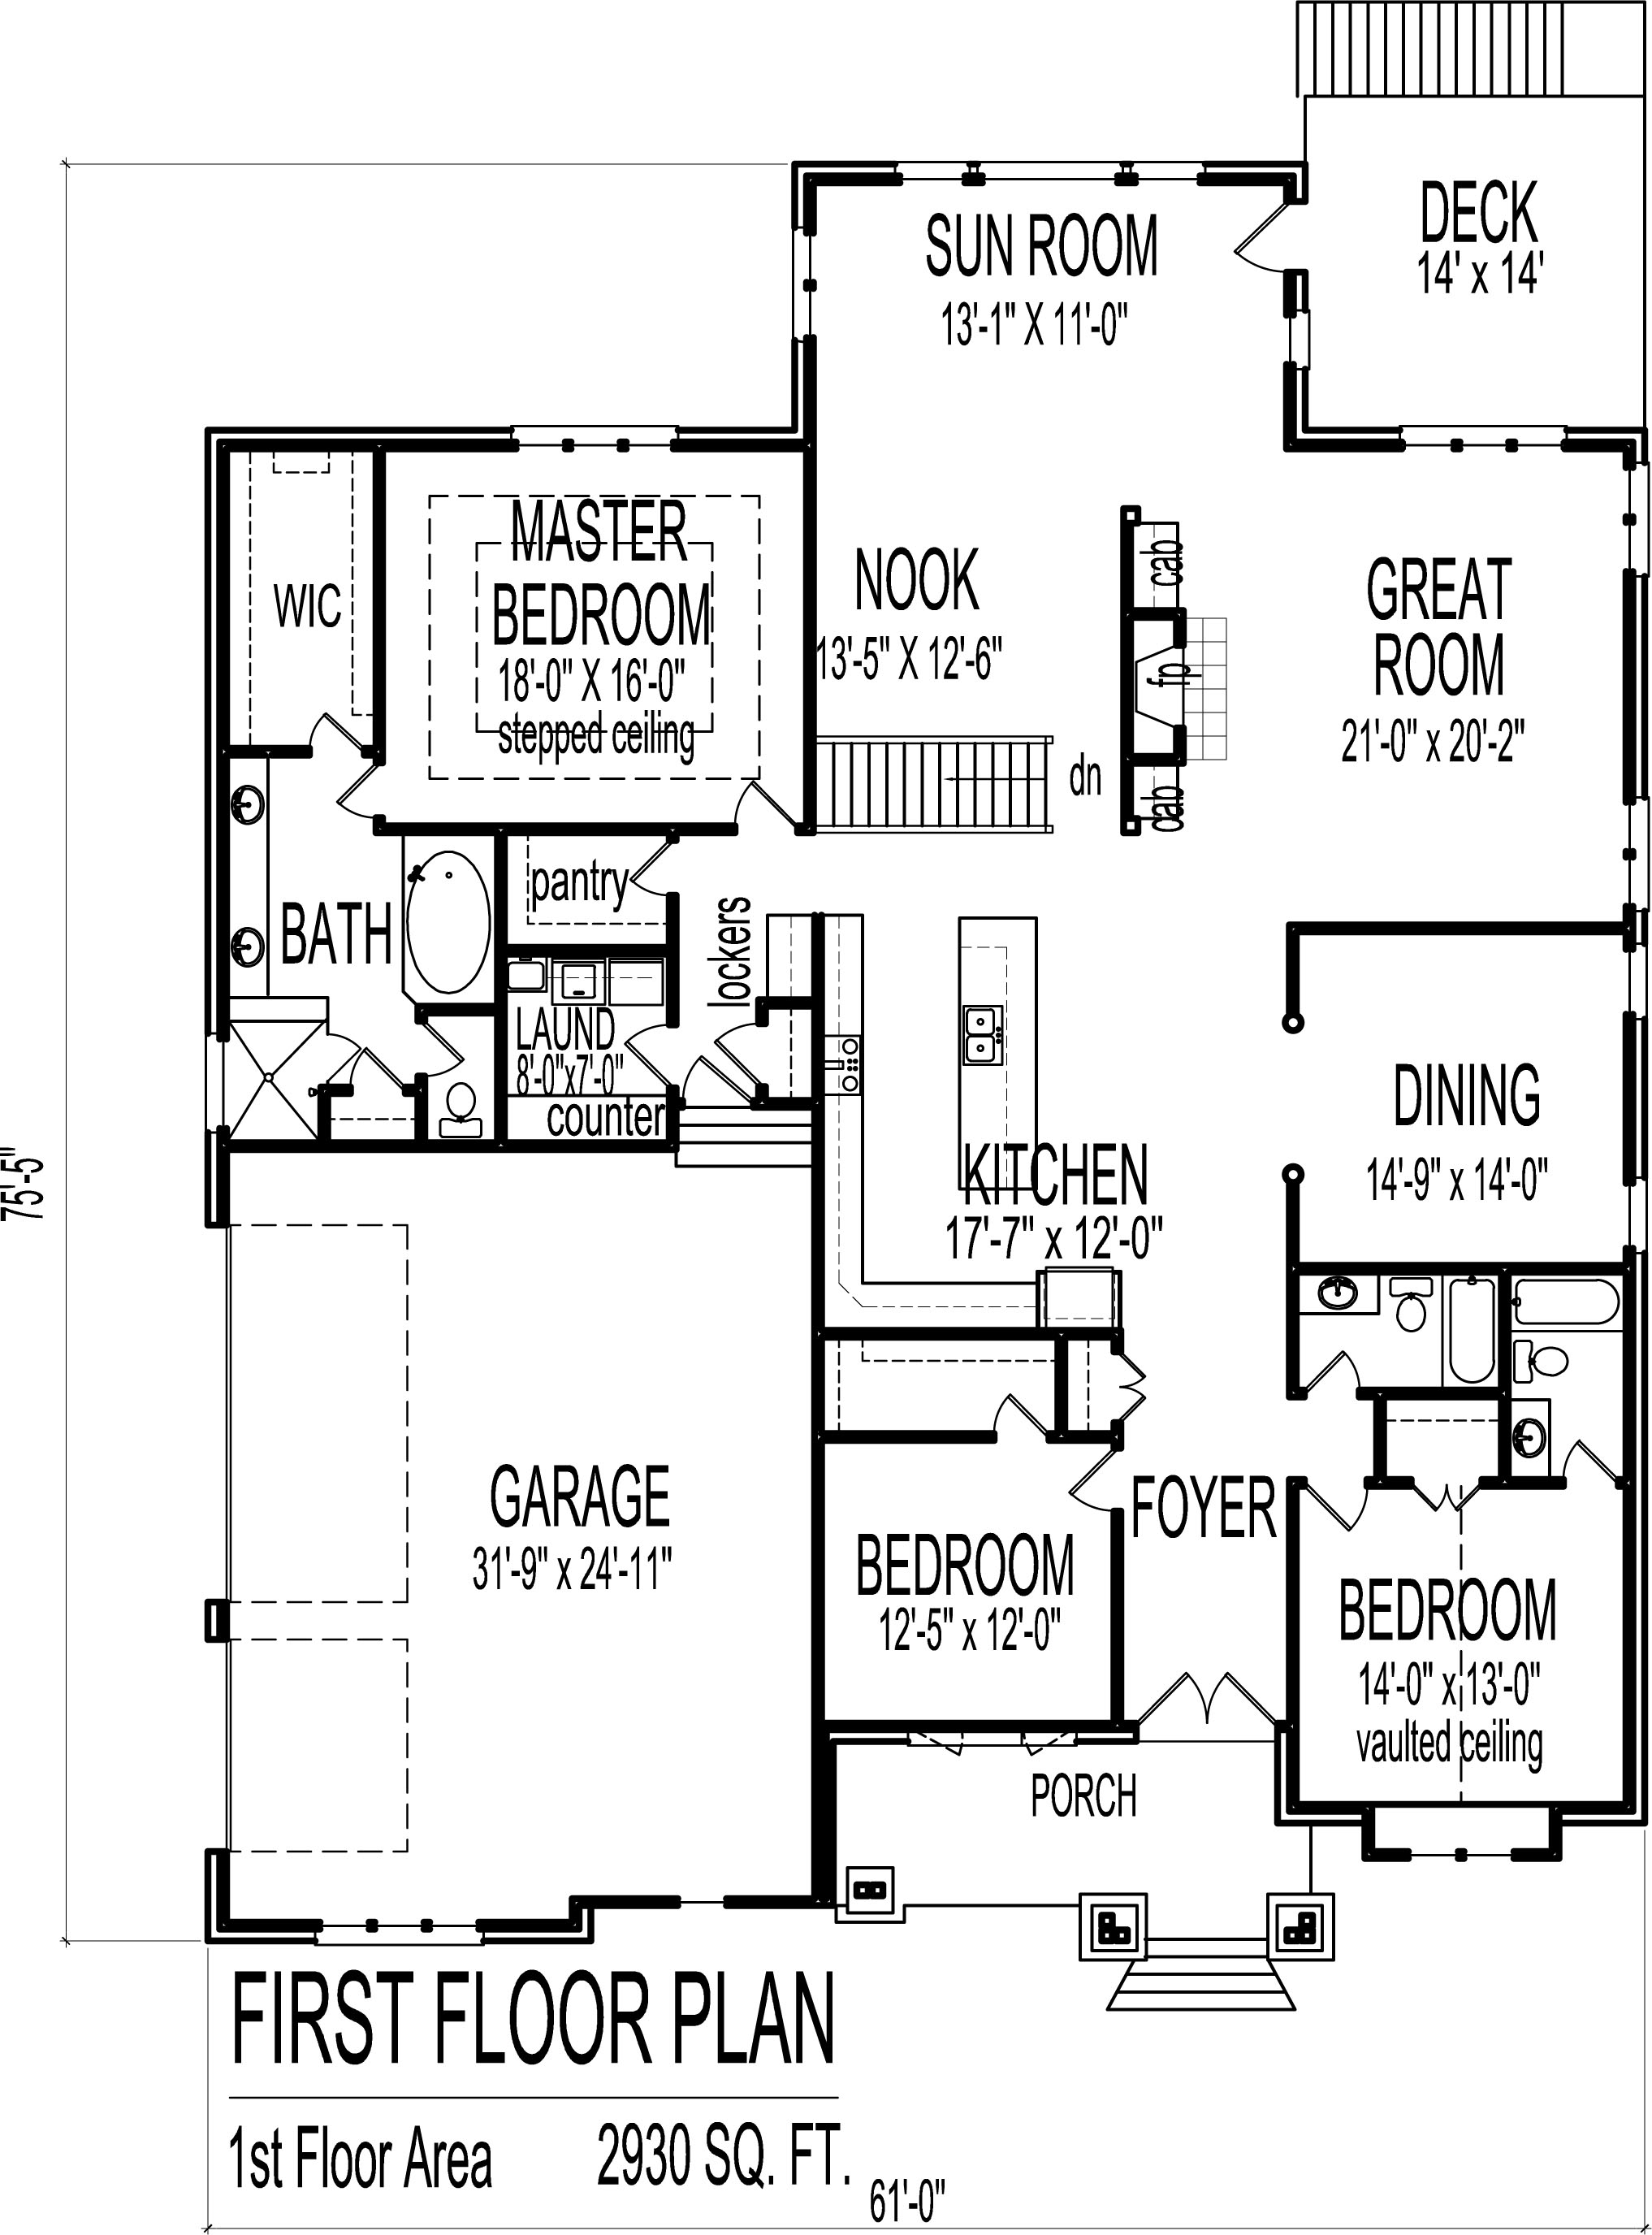wall: (1619, 1492, 1652, 1819), (205, 446, 231, 751), (205, 751, 231, 1036), (1624, 1251, 1650, 1491), (807, 1442, 826, 1727), (1626, 571, 1649, 796), (802, 451, 814, 836), (203, 425, 382, 449), (373, 451, 387, 764), (809, 1742, 835, 1905), (1624, 1012, 1649, 1178), (1284, 1477, 1300, 1725), (382, 425, 517, 451), (817, 1327, 1071, 1341), (675, 425, 817, 449), (1111, 1510, 1124, 1725), (1289, 427, 1404, 451), (503, 942, 675, 958), (791, 337, 817, 434), (203, 1131, 229, 1227), (1284, 923, 1624, 930), (505, 821, 673, 835), (812, 1114, 823, 1336), (472, 1917, 592, 1937), (1204, 160, 1305, 182), (1286, 1267, 1303, 1395), (1275, 1723, 1298, 1820), (1118, 619, 1133, 758), (203, 1850, 229, 1933), (817, 1432, 994, 1444), (1546, 1801, 1631, 1825), (816, 160, 904, 182), (809, 1336, 828, 1439), (1295, 1799, 1374, 1824), (1569, 425, 1645, 449), (826, 1723, 908, 1746), (1295, 1265, 1506, 1274), (505, 1138, 675, 1149), (229, 1921, 319, 1940), (1119, 507, 1135, 616), (1282, 366, 1303, 448), (793, 161, 817, 229), (1078, 1718, 1135, 1746), (1284, 927, 1300, 1027), (1284, 1173, 1300, 1268), (1499, 1275, 1511, 1388), (812, 1008, 824, 1116), (382, 824, 505, 835), (1373, 1399, 1388, 1478), (231, 1140, 333, 1152), (1503, 1265, 1642, 1274), (496, 835, 507, 949), (416, 1072, 432, 1147), (227, 744, 311, 758), (1055, 1338, 1067, 1430), (1499, 1392, 1511, 1482), (573, 1895, 677, 1905), (1118, 764, 1133, 829), (493, 949, 510, 1008), (1360, 1388, 1508, 1395), (1355, 1806, 1376, 1855), (427, 1138, 507, 1150), (1508, 1845, 1558, 1864), (753, 1097, 819, 1111), (1053, 1430, 1119, 1444), (725, 1895, 800, 1907), (1626, 908, 1649, 947), (1069, 1322, 1119, 1340), (668, 819, 737, 831), (333, 1140, 427, 1149), (422, 1005, 500, 1015), (1123, 609, 1189, 621), (1123, 755, 1187, 767), (1508, 1475, 1569, 1487), (1288, 278, 1312, 307), (762, 996, 821, 1008), (816, 913, 823, 1008), (1362, 1477, 1414, 1489), (670, 958, 678, 1022), (319, 1081, 357, 1095), (670, 1088, 680, 1137), (319, 1086, 330, 1133), (1366, 1852, 1411, 1862), (1289, 179, 1308, 203), (1548, 1824, 1560, 1862), (670, 894, 678, 946), (1175, 727, 1185, 770), (1112, 1416, 1124, 1449), (1178, 613, 1189, 647), (1284, 1477, 1308, 1491), (1482, 1471, 1508, 1484), (757, 996, 767, 1024), (1114, 1329, 1124, 1353), (406, 1085, 427, 1095), (373, 812, 385, 829), (757, 1086, 767, 1105), (416, 1005, 429, 1020), (363, 744, 380, 753), (798, 824, 812, 835)
